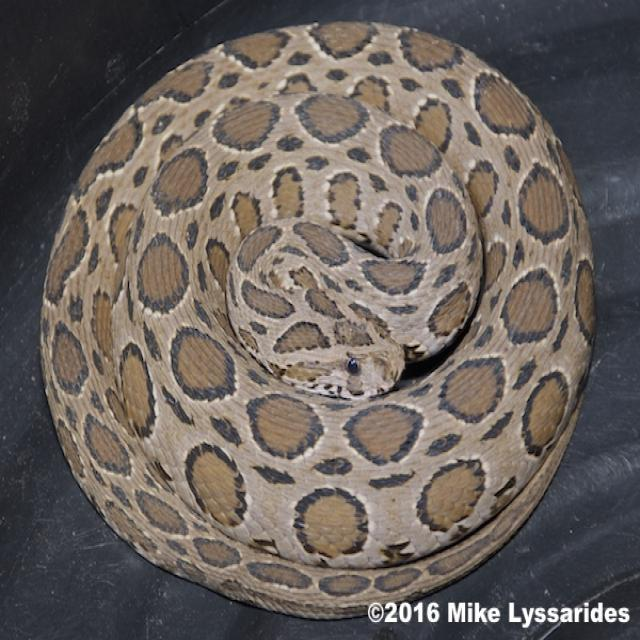Snake: (39, 18, 596, 621)
